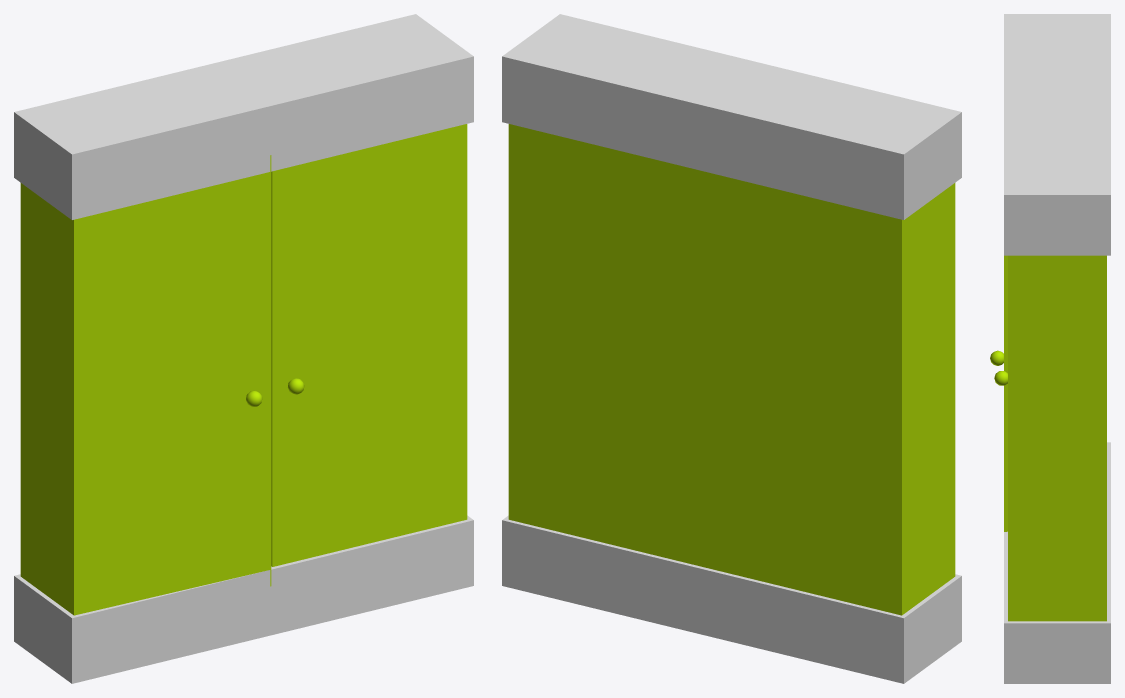
Rendered from AchievementDisplay.fbx.
3 renders of one model, left to right at view 1: azimuth 30°, elevation 25°; view 2: azimuth 150°, elevation 25°; view 3: azimuth 270°, elevation 25°, orthographic. The views are drawn at different scales.
Visible parts, largest first — view 1: Cube.002; view 2: Cube.002; view 3: Cube.002.
Part boxes in pixels (x1,y1,x2,y2): Cube.002: [14, 14, 473, 683]; Cube.002: [502, 14, 961, 683]; Cube.002: [990, 14, 1110, 683].
Size of the model in its own units: 4.16 by 5.24 by 1.17.
